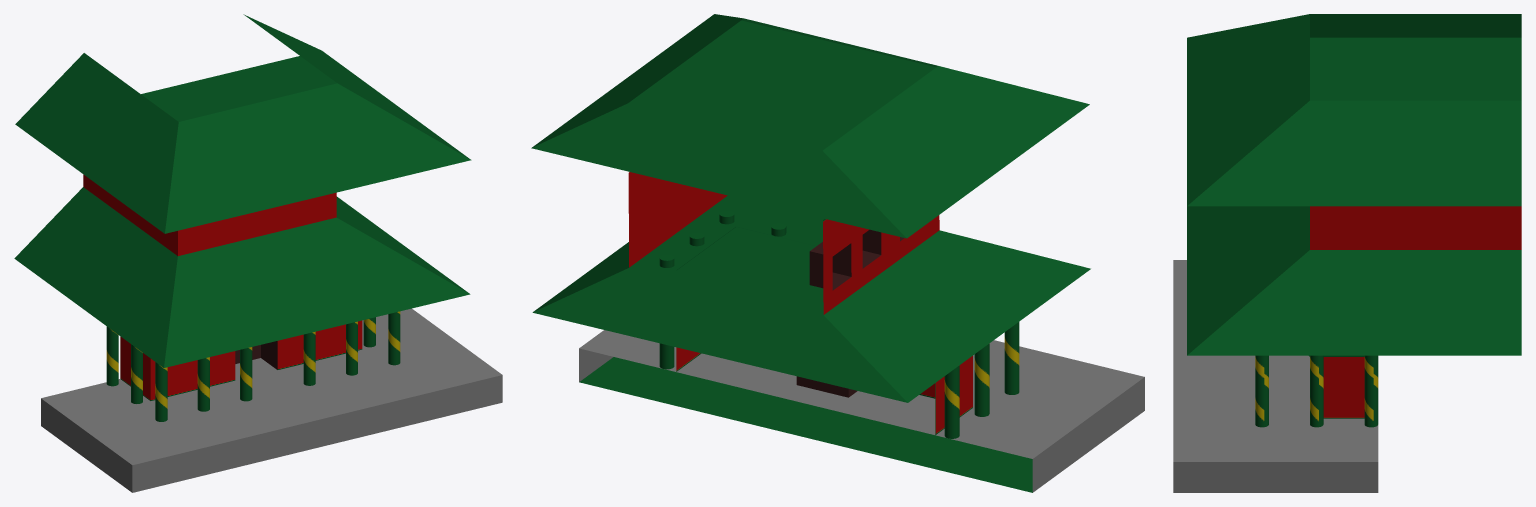
The model's file is jadepalacever1.fbx.
3 views of the same model, side by side, from view 1: azimuth 30°, elevation 25°; view 2: azimuth 150°, elevation 25°; view 3: azimuth 270°, elevation 25° (orthographic). The views are drawn at different scales.
Visible parts, largest first — view 1: pCylinder11; view 2: pCylinder11; view 3: pCylinder11.
Part boxes in pixels (<box>): pCylinder11: <box>14,14,502,492</box>; pCylinder11: <box>531,14,1144,492</box>; pCylinder11: <box>1173,14,1521,492</box>.
Size of the model in its own units: 70 by 54.21 by 51.
